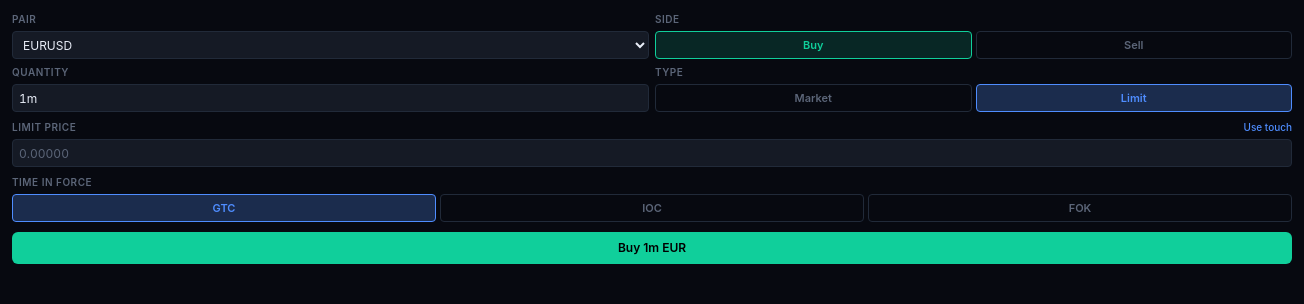
Test: OrderTicket › refuses an unreadable quantity
Step 1. Replace the text in the field with test id "order-quantity" with "abc" → (330, 98), box 12,84 -> 649,112
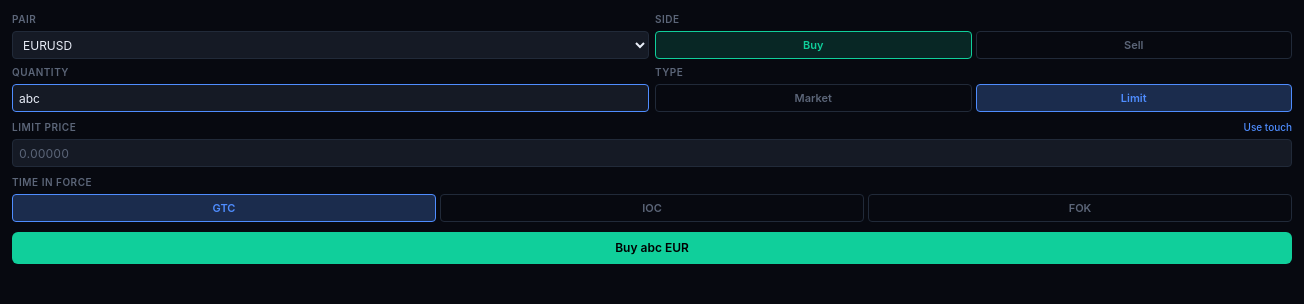
Step 2. Type "1.08" into the field with test id "order-limit" → (652, 153), box 12,139 -> 1292,167
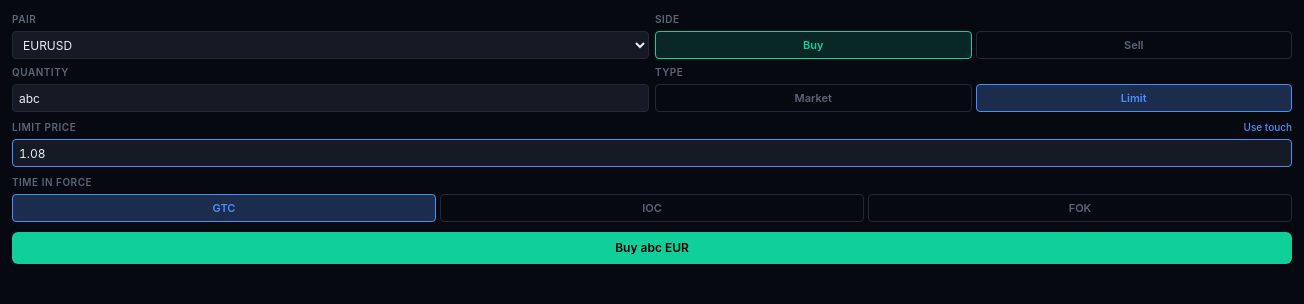
Step 3. Click the button with test id "order-submit" → (652, 248), box 12,232 -> 1292,264
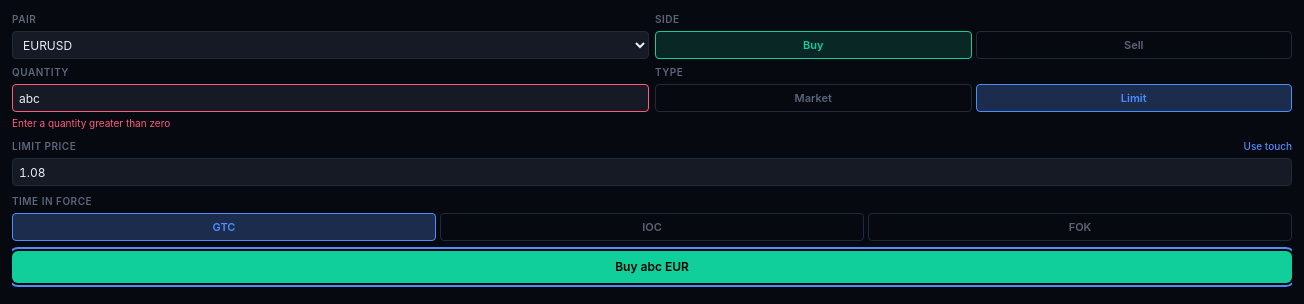
Expected: the text "Enter a quantity greater than zero" is shown, 12,117 -> 170,129
